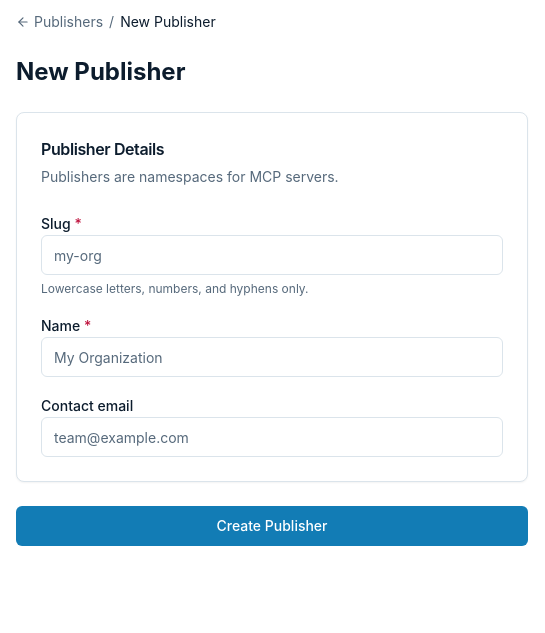
Test: AdminPublisherNew › shows error alert when POST returns an error
The image size is (545, 633).
Type "dup" into the field with id "slug". click: (272, 255)
box: [41,235,503,275]
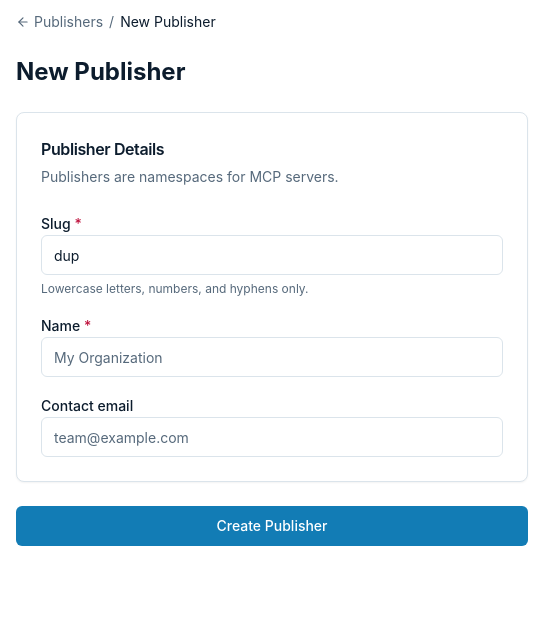
Type "Dup" into the field with id "name". click: (272, 357)
box: [41,337,503,377]
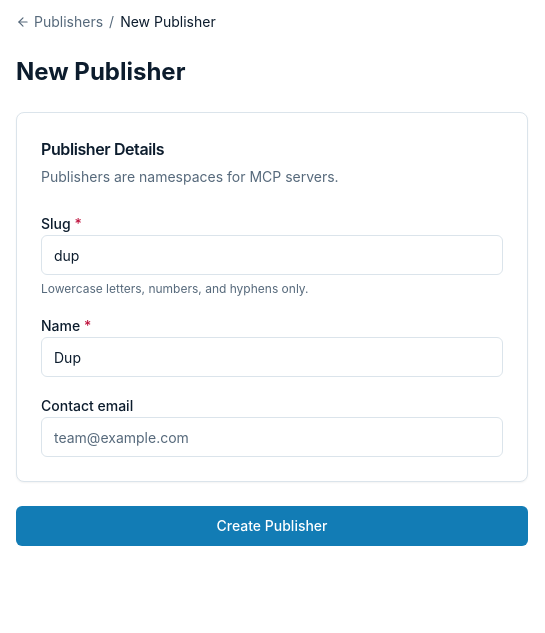
Submit the form
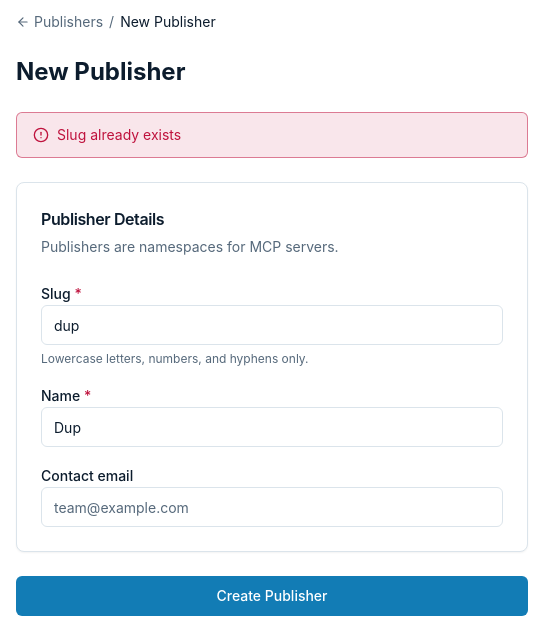
Check: the message reads "Slug already exists", box [57,126,181,143]
